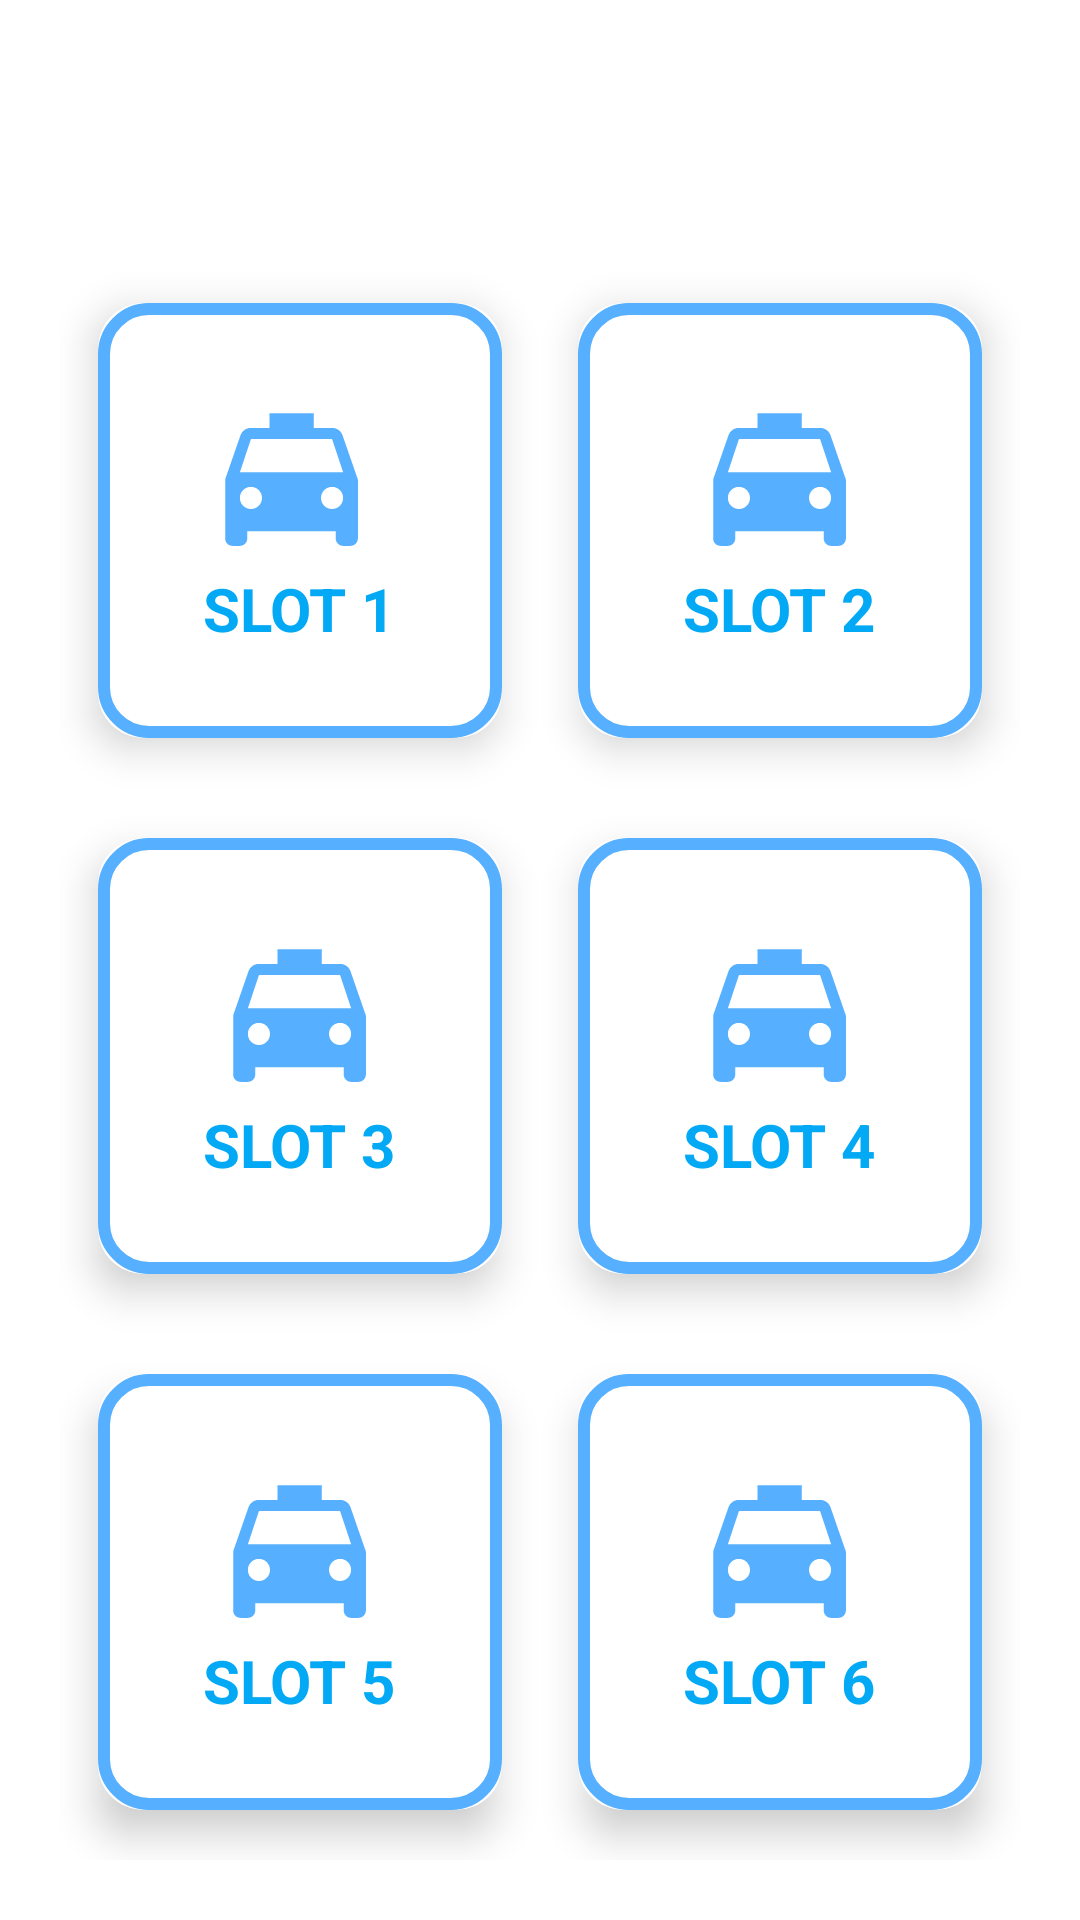

Icon bounding boxes for this 1080×1920 phone screenshot, format (x1=x1, y1=y1, x2=x2, y2=y2):
local taxi: (x1=225, y1=413, x2=358, y2=546), (x1=713, y1=413, x2=846, y2=546), (x1=233, y1=949, x2=366, y2=1082), (x1=713, y1=949, x2=846, y2=1082), (x1=233, y1=1485, x2=366, y2=1618), (x1=713, y1=1485, x2=846, y2=1618)
